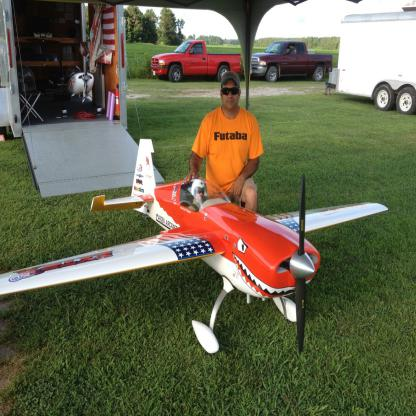Truck: (328, 0, 415, 116), (150, 40, 243, 83)
